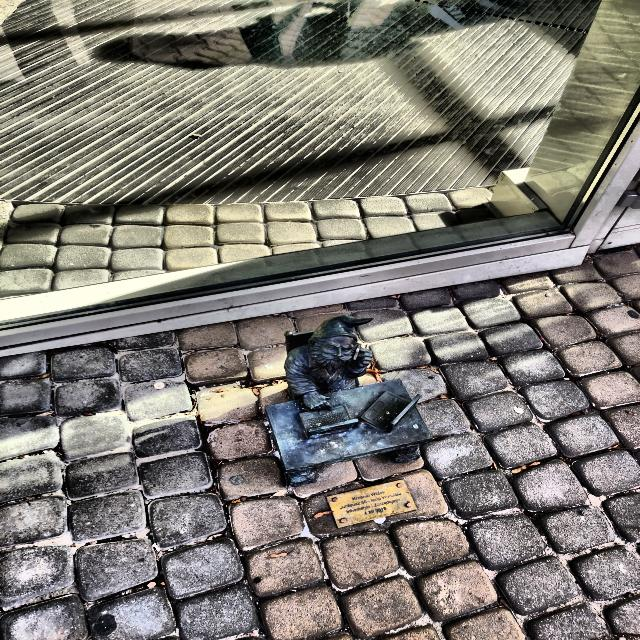WIZek: (265, 316, 432, 486)
